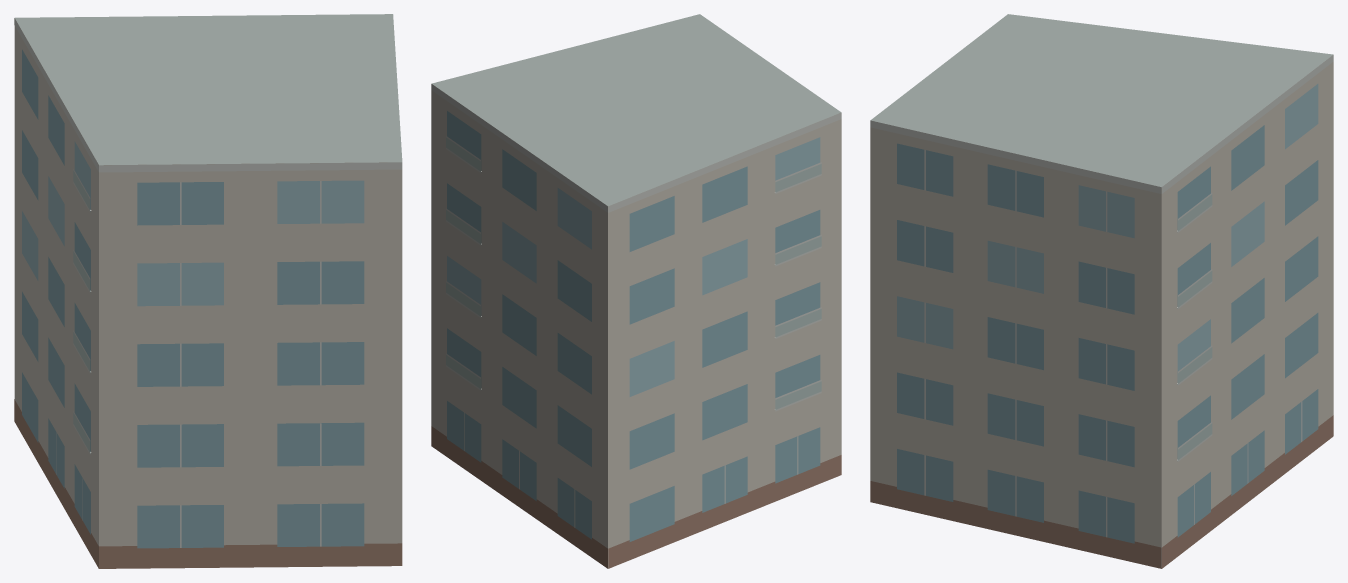
The model's file is survey-upis-33003172.glb.
3 renders of one model, left to right at view 1: azimuth 30°, elevation 25°; view 2: azimuth 150°, elevation 25°; view 3: azimuth 270°, elevation 25°, orthographic. The views are drawn at different scales.
Parts seen in each view (by area): view 1: survey-upis-33003172.tmp; view 2: survey-upis-33003172.tmp; view 3: survey-upis-33003172.tmp.
Part boxes in pixels (x1,y1,x2,y2): survey-upis-33003172.tmp: [14, 14, 402, 568]; survey-upis-33003172.tmp: [431, 14, 841, 568]; survey-upis-33003172.tmp: [870, 14, 1333, 568].
Size of the model in its own units: 13.1 by 13.45 by 14.81.
